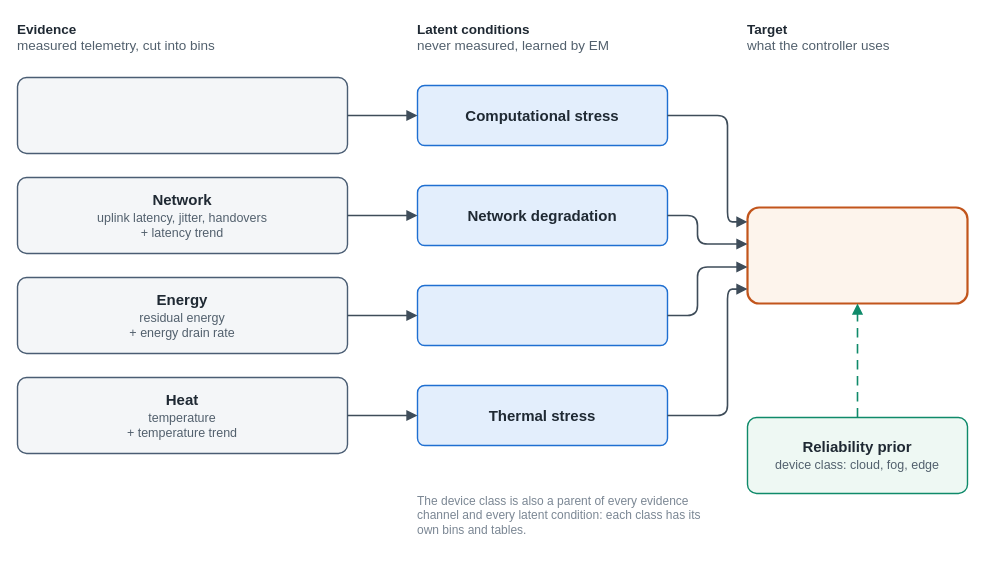
Image size: 986x566. Some labels were removed from this diagram. The centre of each missing label's shape, as x and y in pixels:
Computational load CPU, RAM, queue depth + CPU trend, queue trend: the point at 182,115
Energy stress: the point at 542,315
node_failure P(fail within the next two epochs | evidence): the point at 857,255
